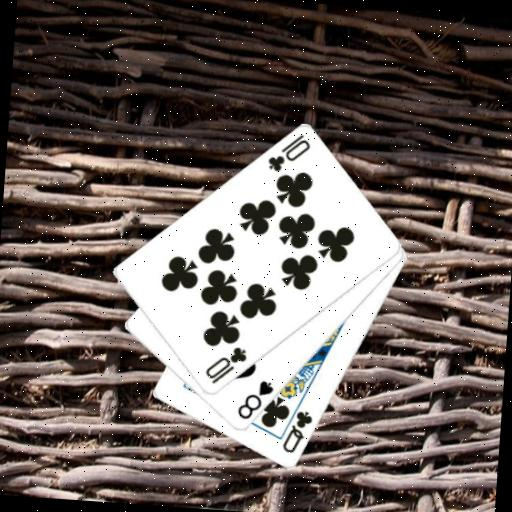10C: (201, 341, 250, 388), (264, 130, 313, 177)
8S: (234, 376, 276, 424)
QC: (279, 406, 316, 457)
